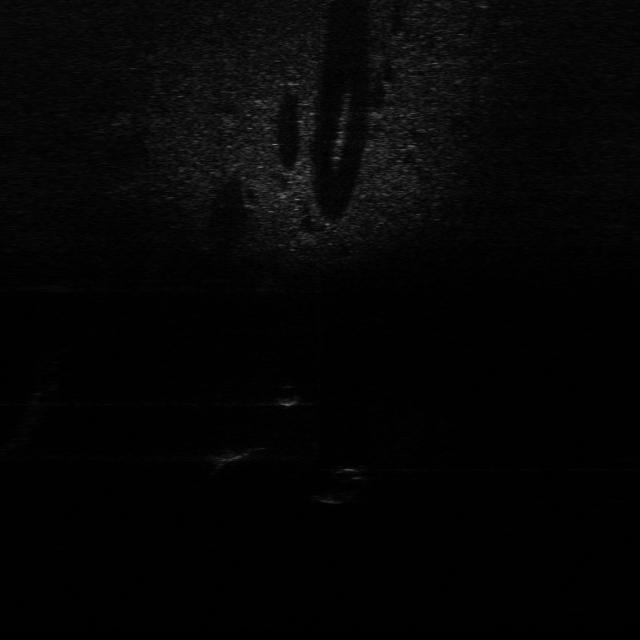ball: (274, 380, 304, 410)
square cage: (209, 438, 263, 468)
tyre: (314, 459, 377, 505)
